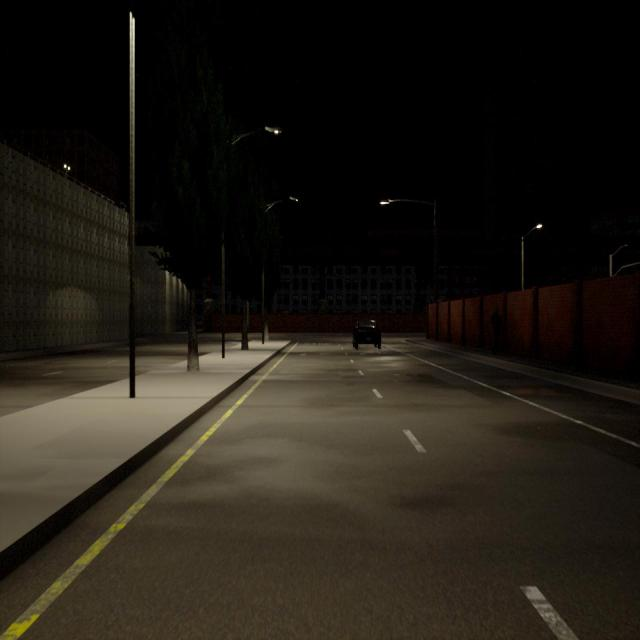Pedestrian: (491, 308, 500, 356)
Vehicle: (353, 320, 380, 348)
